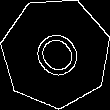O_SE: (23, 19, 89, 86)
